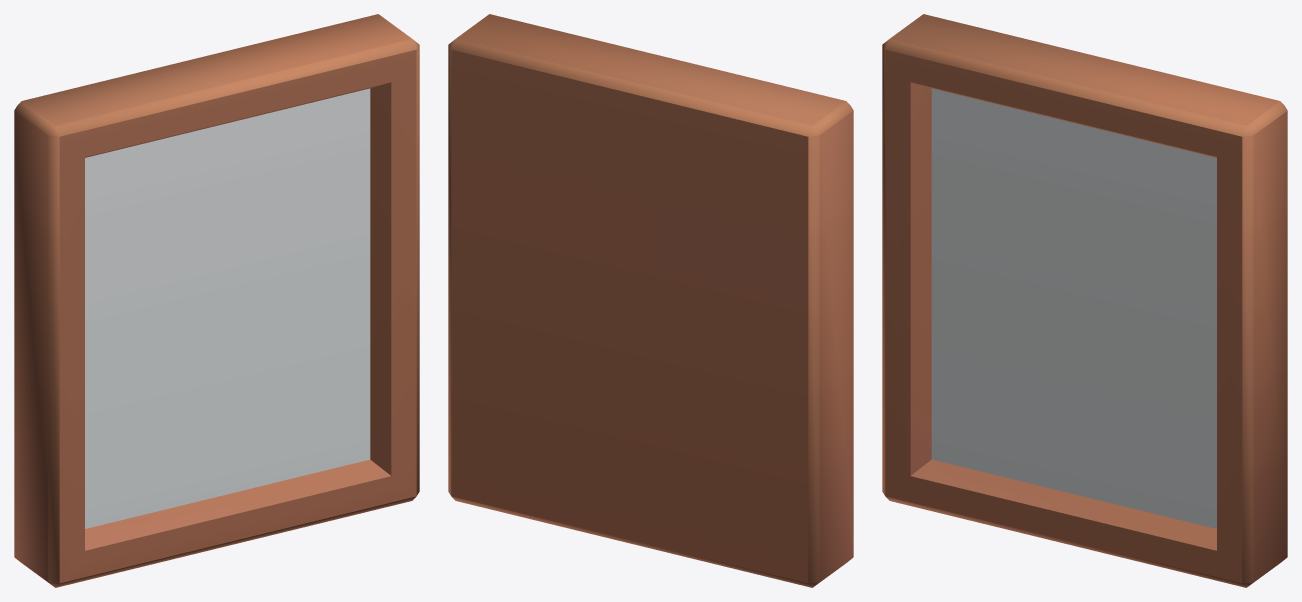
Rendered from pictureframe_large_A.glb.
3 renders of one model, left to right at view 1: azimuth 30°, elevation 25°; view 2: azimuth 150°, elevation 25°; view 3: azimuth 330°, elevation 25°, orthographic.
Parts seen in each view (by area): view 1: pictureframe_large_A; view 2: pictureframe_large_A; view 3: pictureframe_large_A.
Part boxes in pixels (<box>): pictureframe_large_A: <box>14,14,419,587</box>; pictureframe_large_A: <box>448,14,853,587</box>; pictureframe_large_A: <box>882,14,1287,587</box>.
Size of the model in its own units: 1.01 by 1.2 by 0.2.
1 material, 1 textured.
